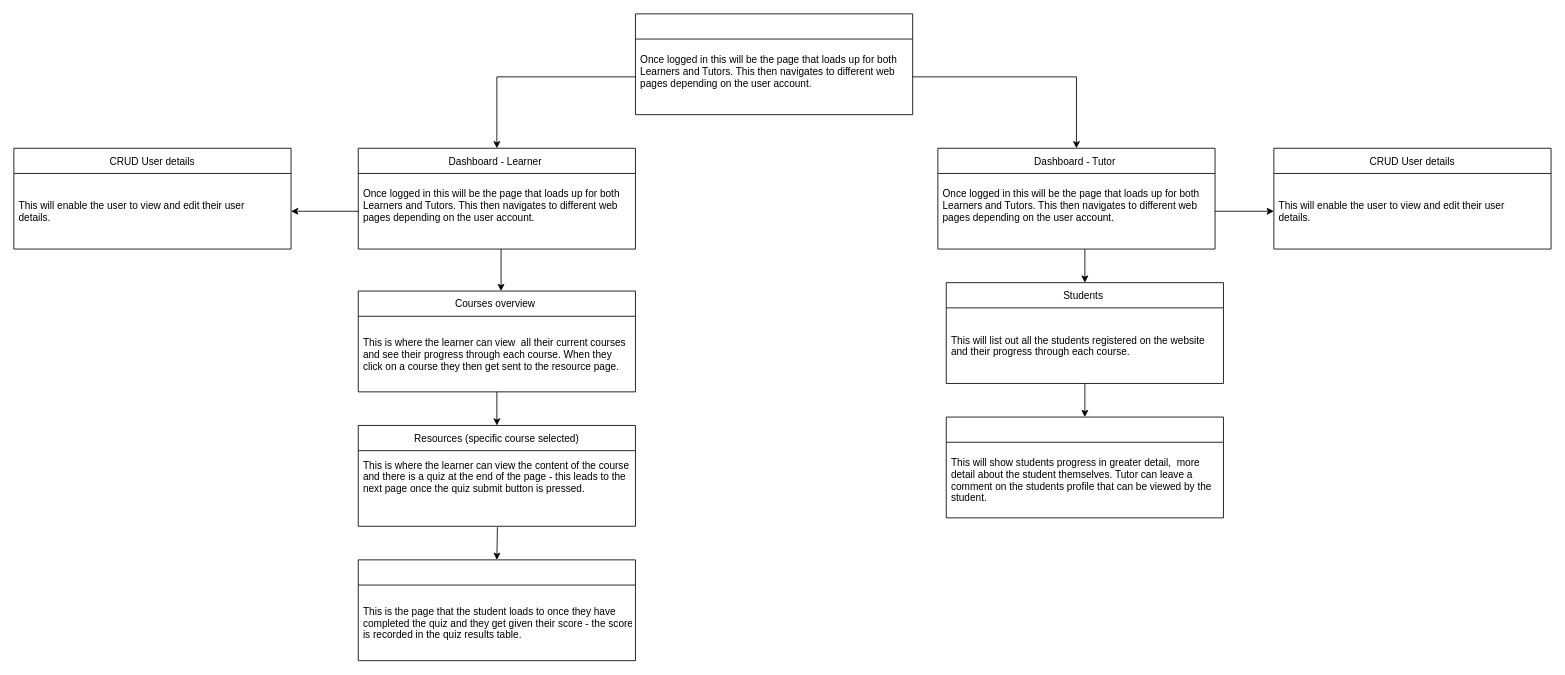
This 1565x675 diagram has some shape labels left out. The box of each missing label's shape, as (x1, y1, x2, y2) in pixels:
Dashboard: (635, 13, 913, 115)
Individual student overview: (945, 416, 1223, 518)
Quiz results page: (357, 559, 635, 661)
